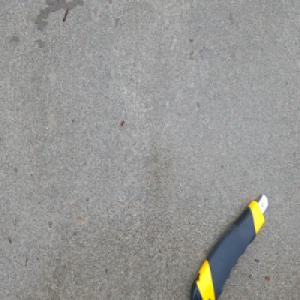Cutter: (187, 190, 268, 300)
